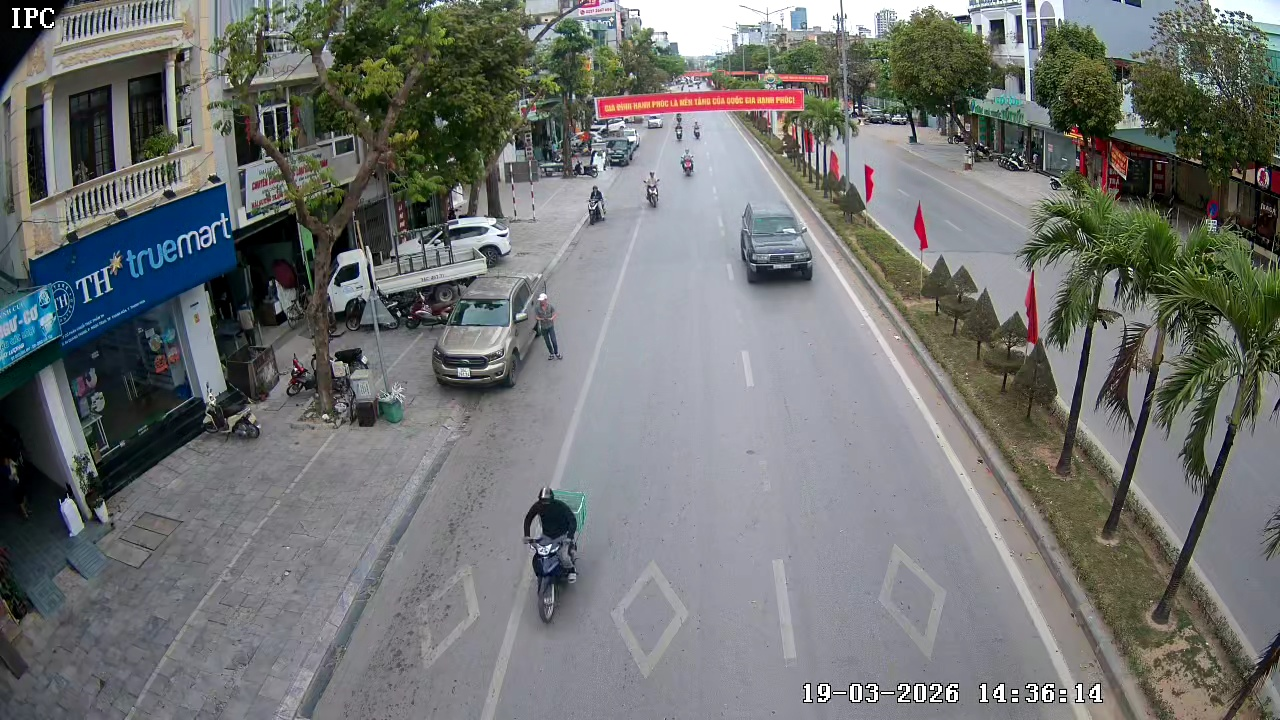car: (430, 272, 558, 388), (738, 198, 815, 284)
motorbike: (520, 484, 587, 624), (585, 183, 607, 226), (641, 169, 661, 209), (682, 146, 698, 177), (674, 117, 683, 143)
truck: (603, 132, 632, 168)
